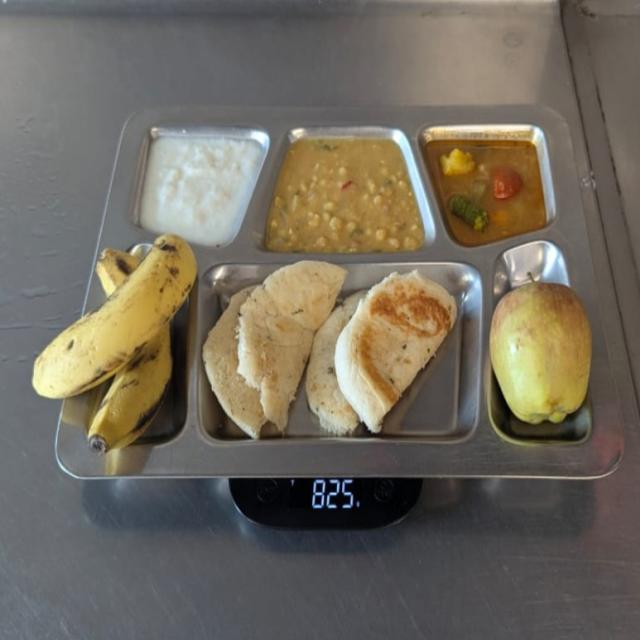Apple: (488, 263, 598, 434)
Banana: (32, 232, 200, 460)
Bread: (205, 258, 465, 450)
Dal: (268, 137, 424, 259)
Porridge: (135, 118, 266, 246)
Sambhar: (428, 132, 556, 246)
